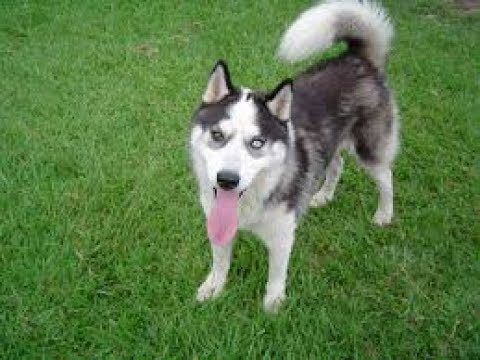husky: (178, 55, 306, 304)
